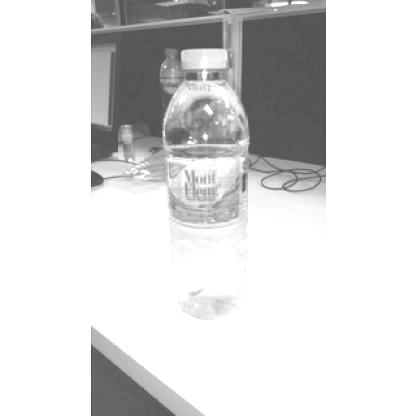bottle: (162, 41, 256, 326)
